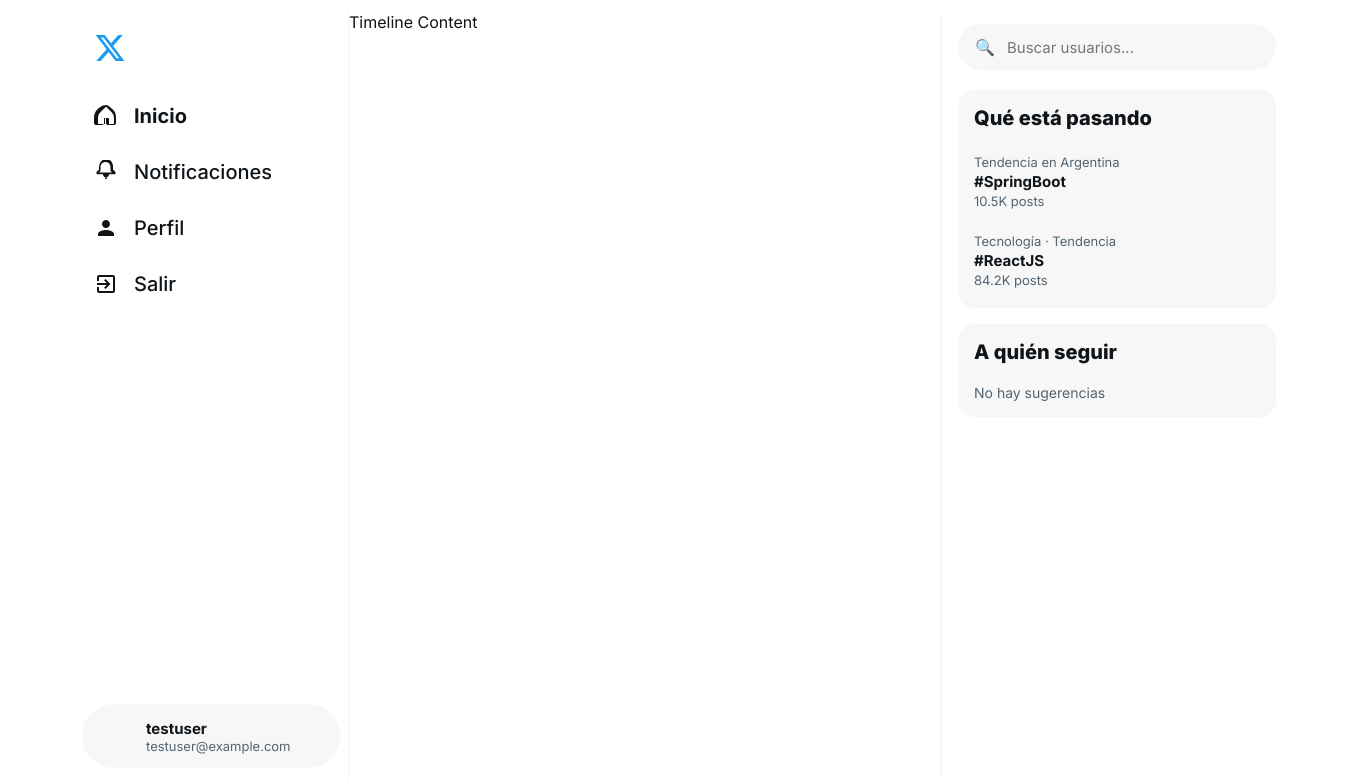
Scenario: Search and Modals Integration Tests › Search Bar in Layout › debounces and displays search results after typing
Type into search bar
Type "search" into the field with test id "search-input" at (1133, 47), box [1007,38,1259,56]
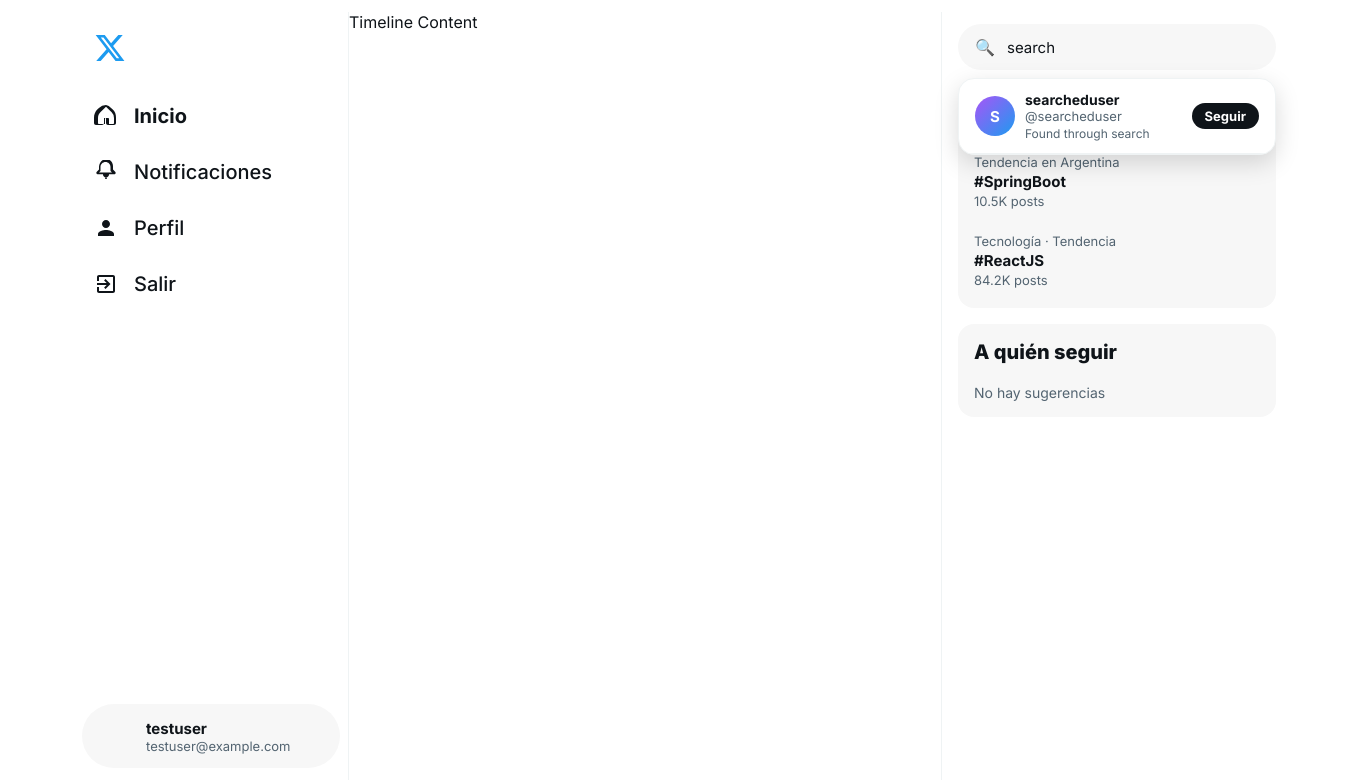
Check: the element with test id "search-result-item-user-789" is shown, box [959,79,1275,154]
Check: the text "searcheduser" is shown, box [1025,91,1120,108]
Check: the text "Found through search" is shown, box [1025,126,1150,141]
